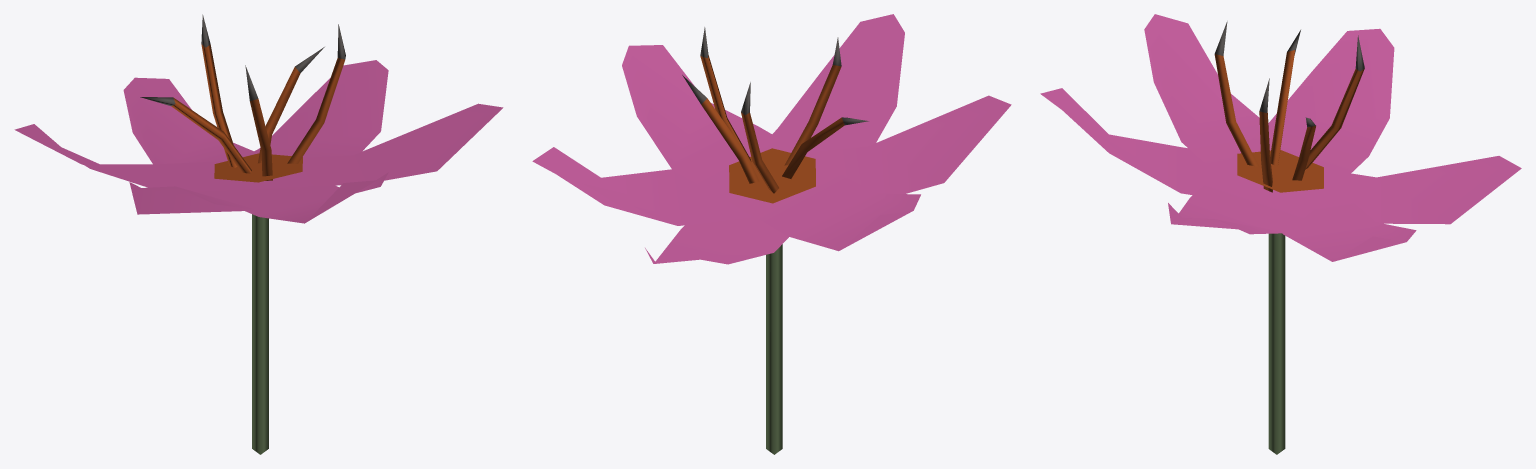
Rendered from P_alpros_03_LD.fbx.
3 renders of one model, left to right at view 1: azimuth 30°, elevation 25°; view 2: azimuth 150°, elevation 25°; view 3: azimuth 270°, elevation 25°, orthographic.
Parts seen in each view (by area): view 1: P_alpros_03; view 2: P_alpros_03; view 3: P_alpros_03.
Part boxes in pixels (bbox=[...]): P_alpros_03: bbox=[14, 14, 503, 454]; P_alpros_03: bbox=[532, 14, 1011, 454]; P_alpros_03: bbox=[1040, 14, 1521, 454].
Size of the model in its own units: 29.35 by 29.79 by 31.64.
